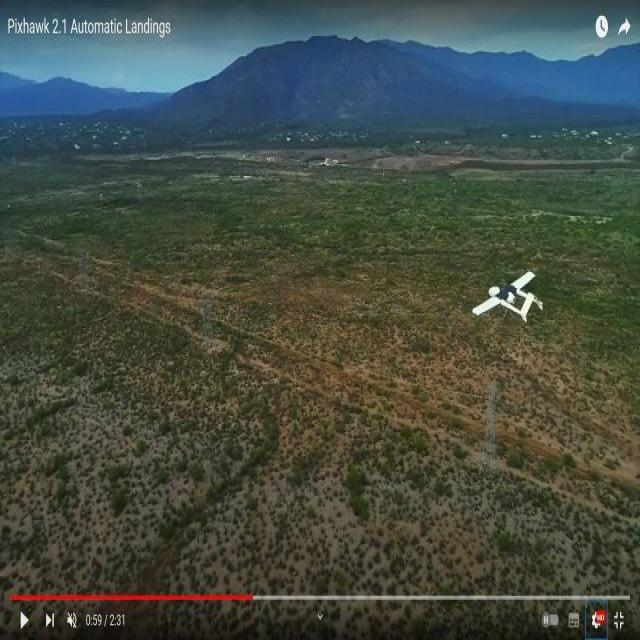iha: (500, 291, 529, 322)
